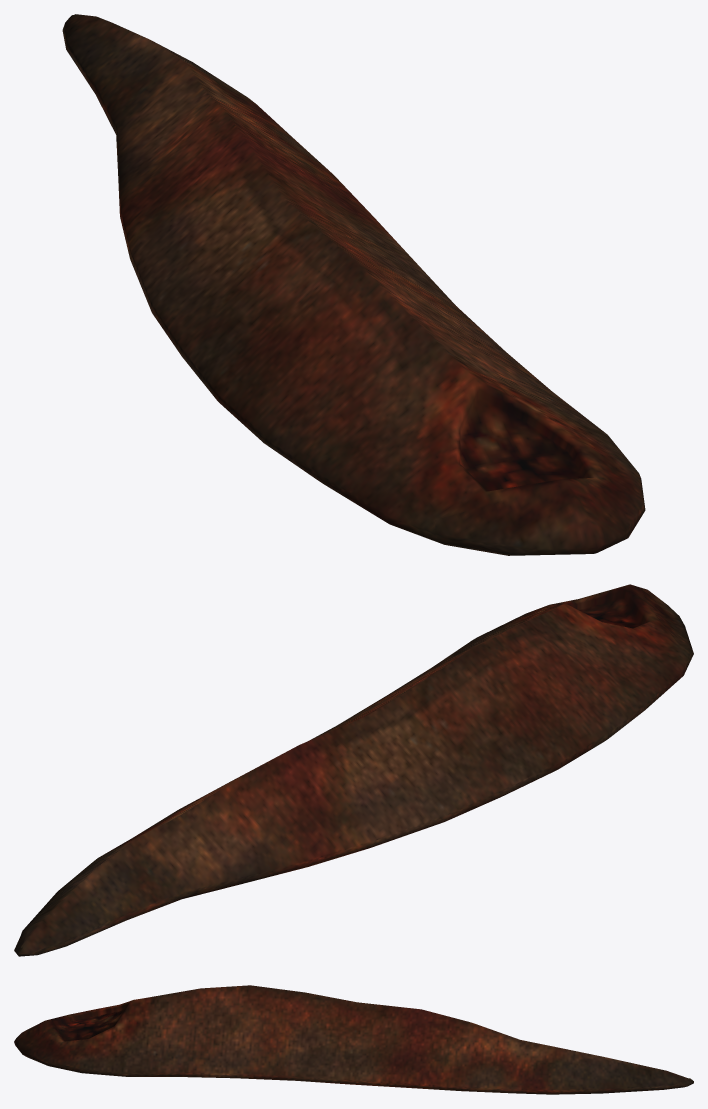
Rendered from tape_worm.obj.
3 renders of one model, top to bottom at view 1: azimuth 30°, elevation 25°; view 2: azimuth 150°, elevation 25°; view 3: azimuth 270°, elevation 25°, orthographic. The views are drawn at different scales.
Parts seen in each view (by area): view 1: tape_worm; view 2: tape_worm; view 3: tape_worm.
Part boxes in pixels (box(x1,y1,x2,y2)): tape_worm: box(62, 14, 645, 555); tape_worm: box(14, 584, 693, 956); tape_worm: box(14, 985, 693, 1094).
Bounding box in the file's own units: 0.2431 × 0.0856 × 0.8515.
